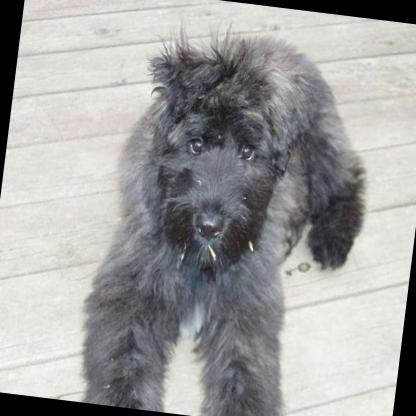Bouvier_des_Flandres: (67, 0, 387, 416)
